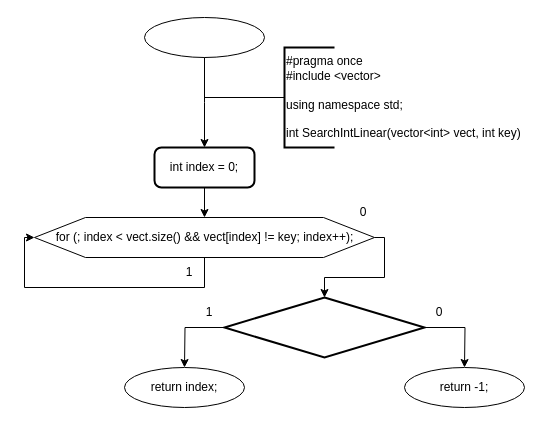
This 542x425 diagram has some shape labels left out. Each missing label, with the box of its shape:
if (vect[index] == key): (223, 296, 425, 358)
start: (144, 16, 264, 58)
